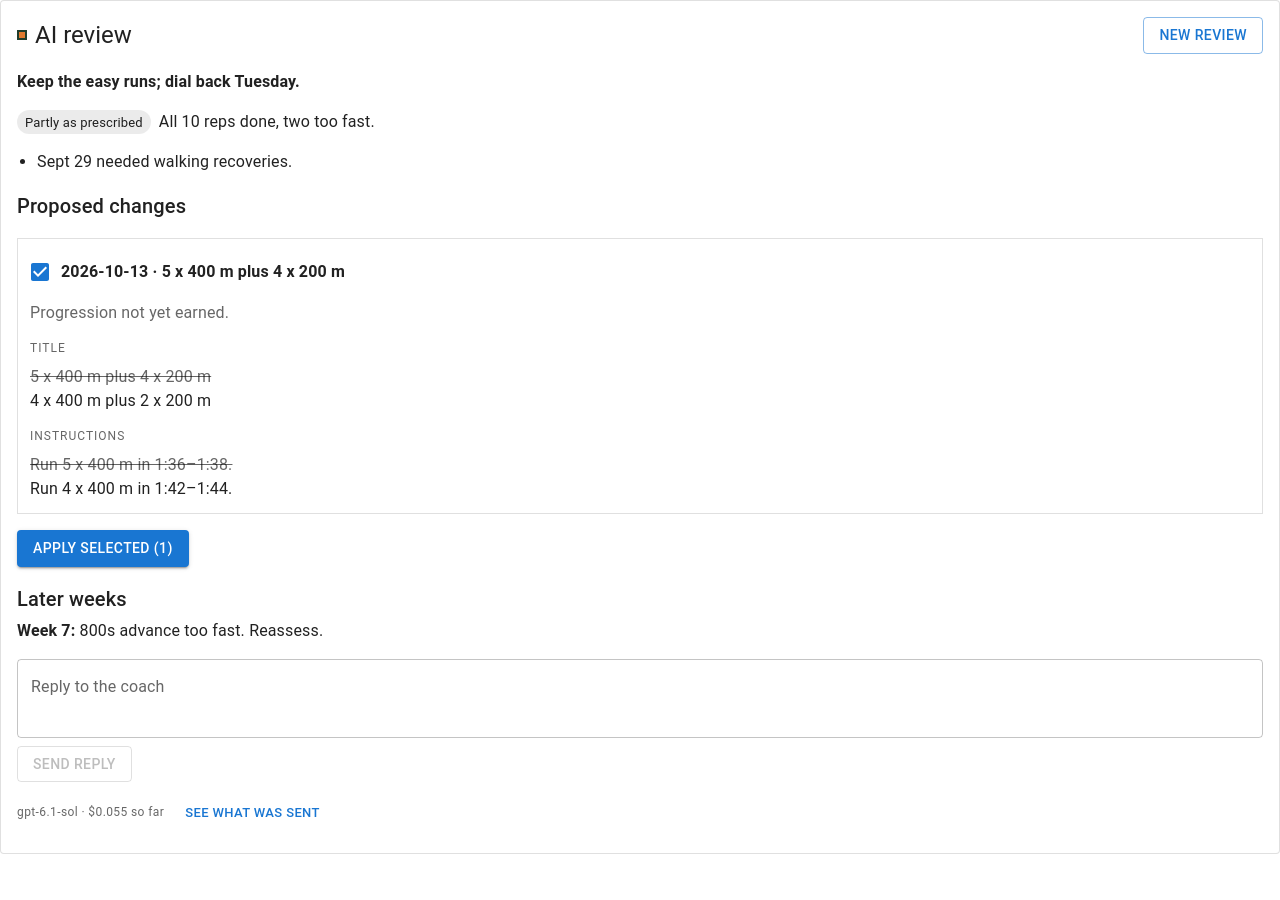
Scenario: loads the latest review and applies the selected changes
Click the button "Apply selected (1)".
click(103, 548)  # box left=17, top=530, right=189, bottom=567
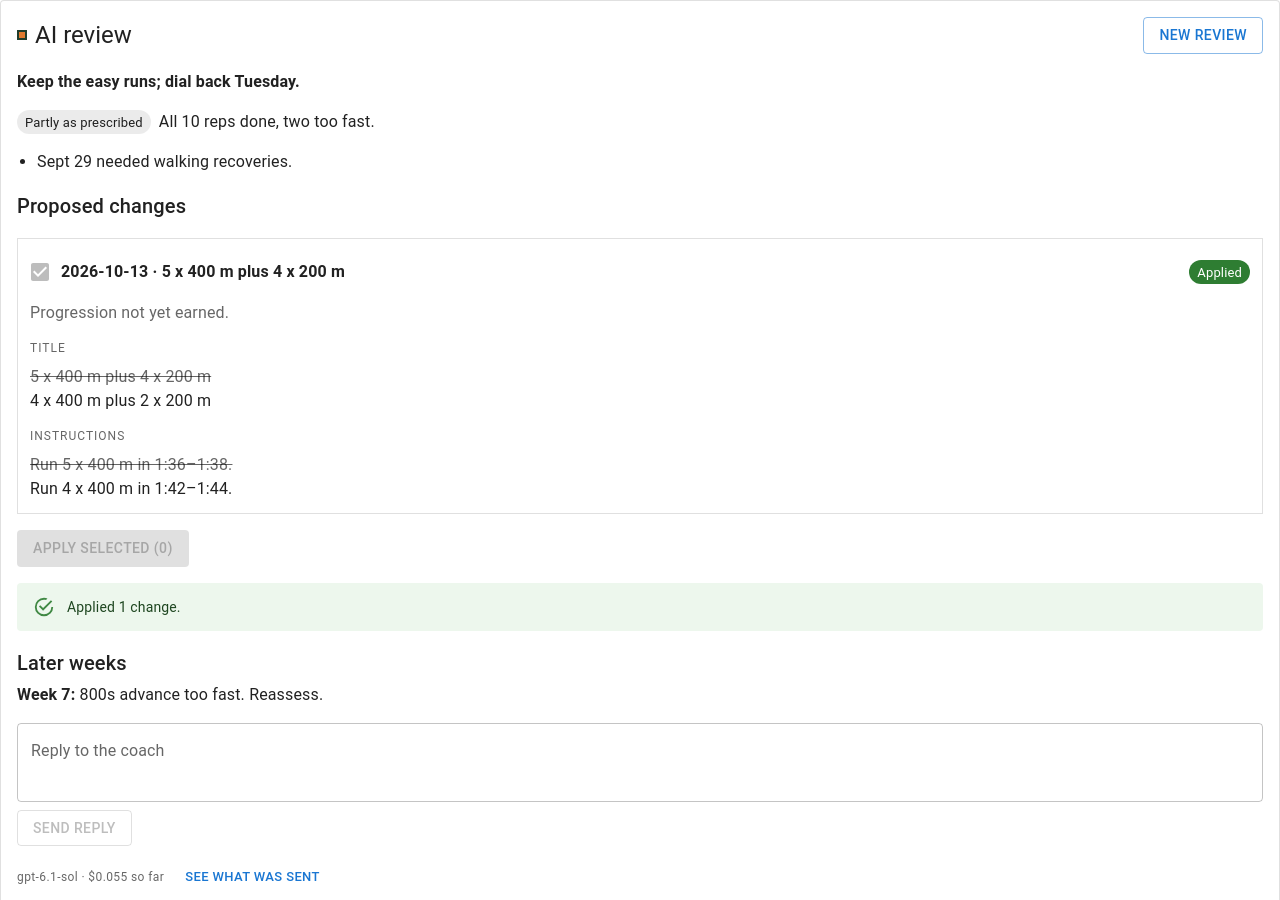
Check: the text "Applied 1 change." is shown, box left=67, top=599, right=181, bottom=615
Check: the text "Applied" is shown, box left=1197, top=264, right=1242, bottom=280
